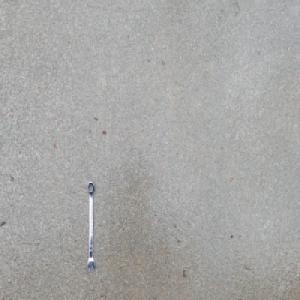Wrench: (85, 178, 96, 274)
